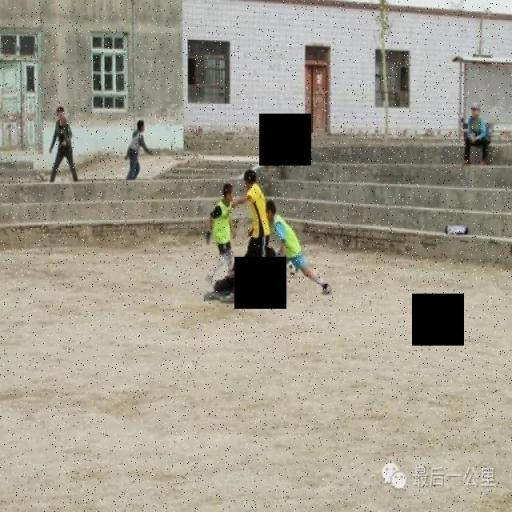Fall: (205, 240, 286, 308)
